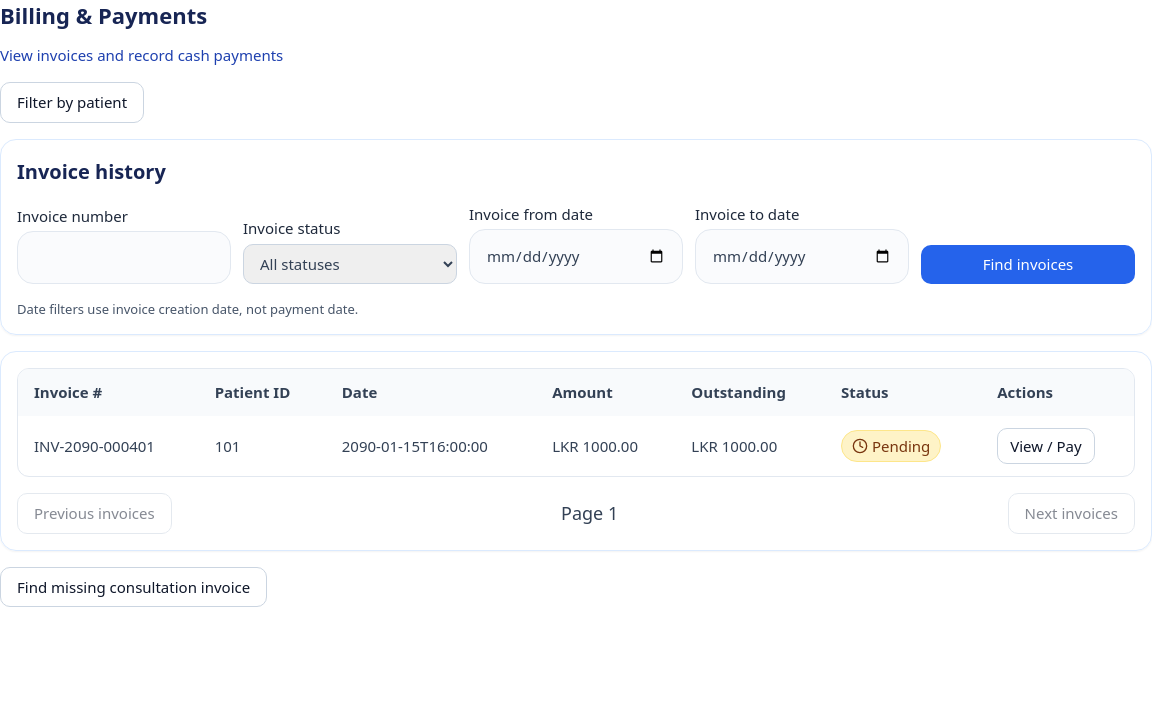
ADM-07 cash billing › rejects invalid amount -1 before payment
The image size is (1152, 720).
Click the button with aria-label "View invoice INV-2090-000401".
click(1046, 446)  # box [997,428,1094,464]
(page scrolled)
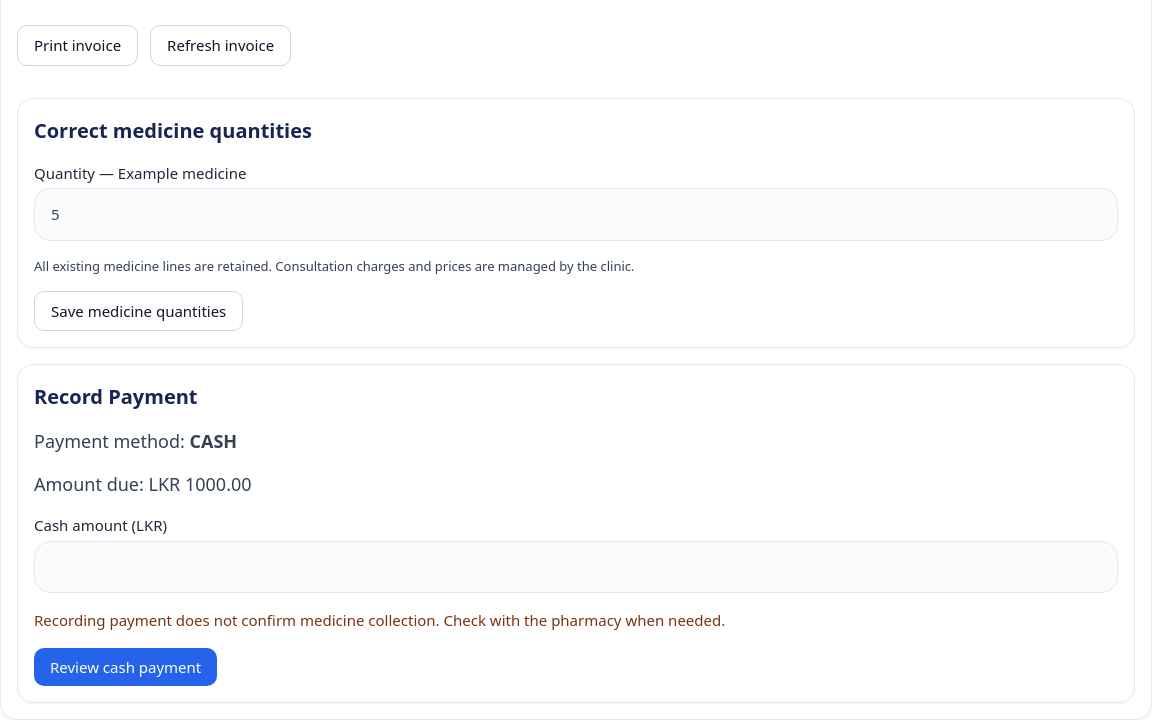
Expected: the field labelled "Cash amount (LKR)" is shown
Type "-1" into the field labelled "Cash amount (LKR)".
click(576, 567); type("-1")  # box [34,541,1118,593]
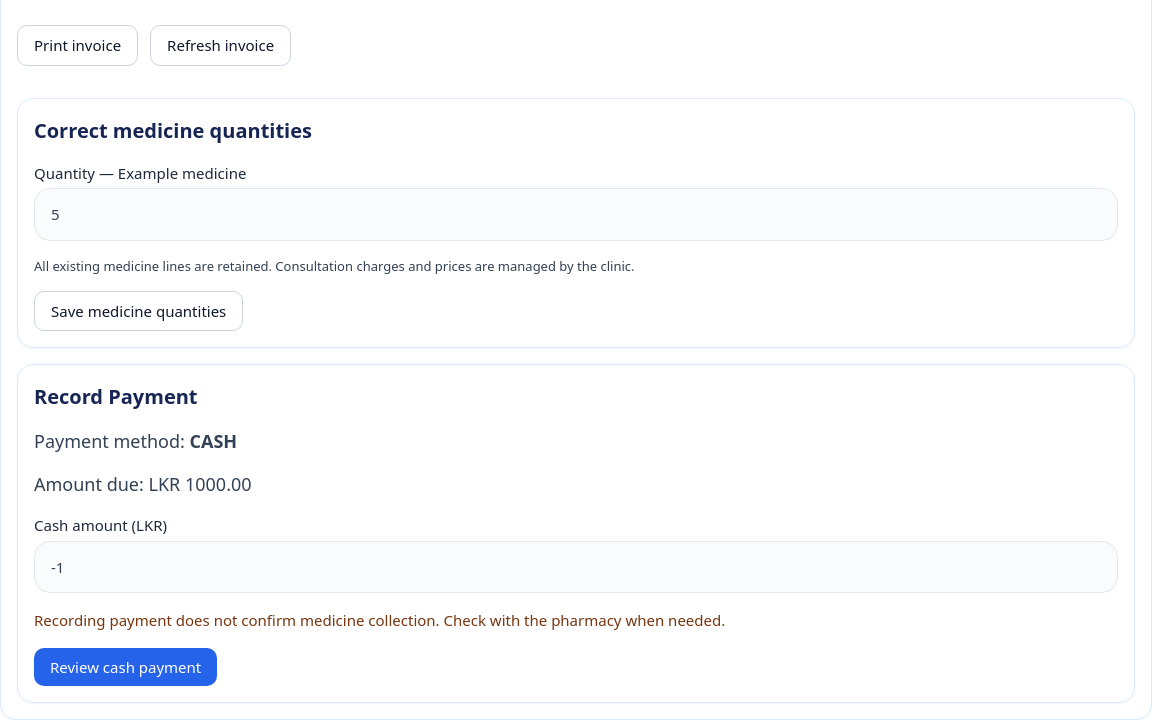
Click the button "Review cash payment".
click(126, 667)  # box [34,648,217,686]
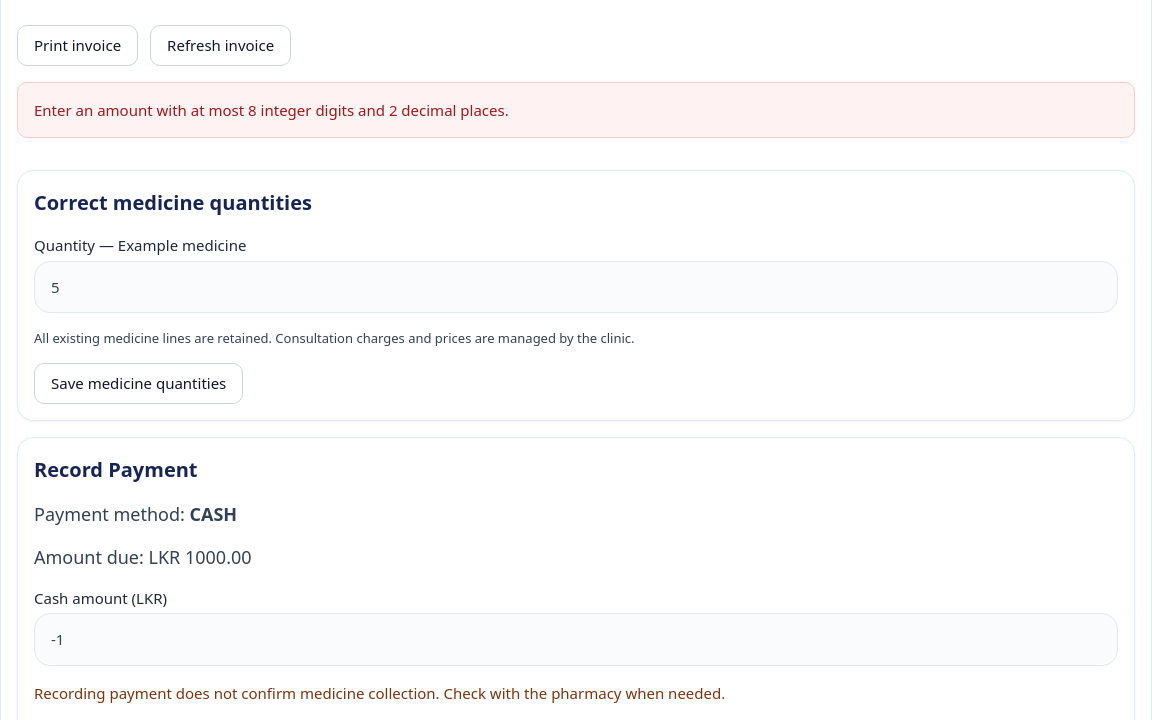
Expected: the message "Enter an amount with at most 8 integer digits and 2 decimal places." is shown, [17,82,1135,138]
